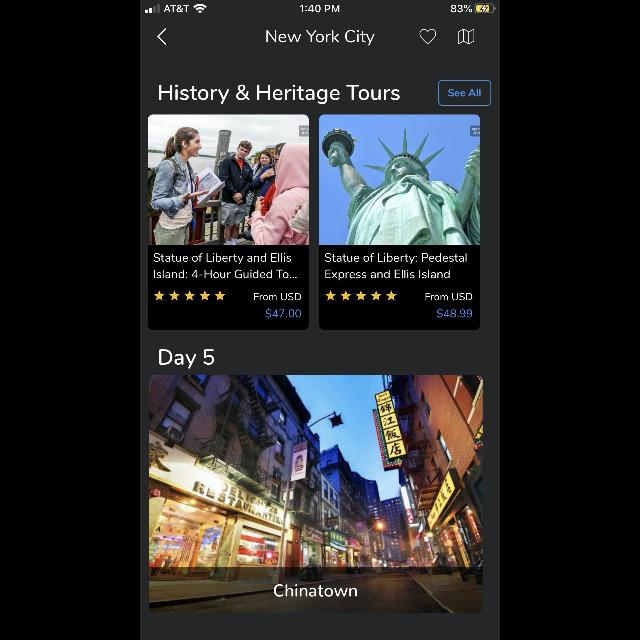icon: (154, 291, 226, 301), (326, 291, 396, 301), (458, 29, 474, 45), (419, 30, 436, 44), (158, 28, 166, 46)
image: (150, 375, 482, 613), (320, 115, 480, 245), (148, 115, 308, 245)
text: (160, 85, 400, 104), (267, 30, 375, 46), (326, 253, 466, 264), (154, 253, 292, 264), (326, 270, 450, 280), (155, 270, 297, 278), (160, 349, 214, 368), (275, 584, 357, 596), (266, 309, 302, 319), (438, 308, 472, 318), (426, 294, 472, 300), (255, 294, 301, 300)
textbutton: (438, 80, 492, 106)
uppertaskbar: (140, 0, 500, 14)
